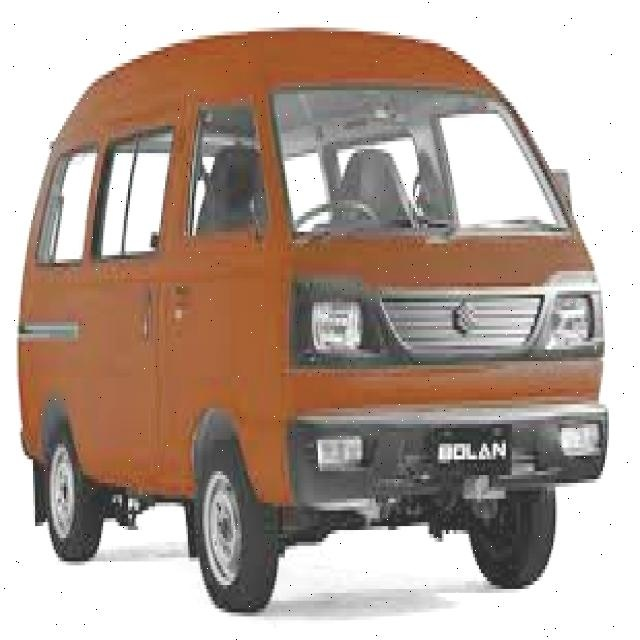Van: (17, 28, 611, 616)
